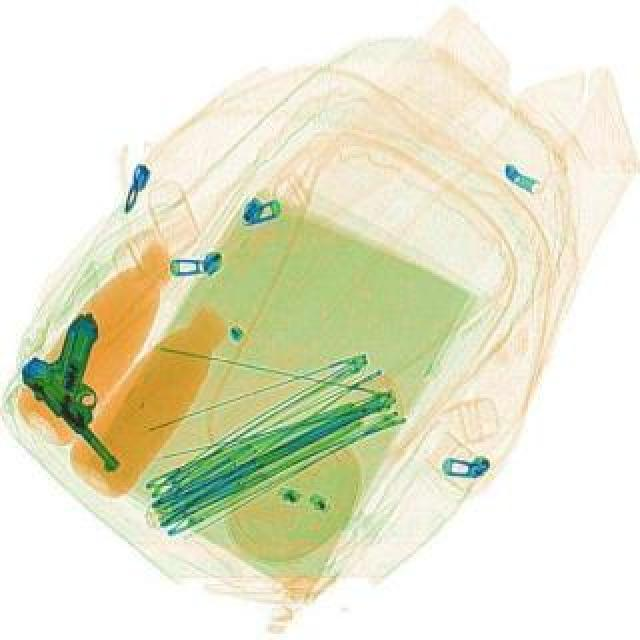gun: (8, 308, 186, 472)
